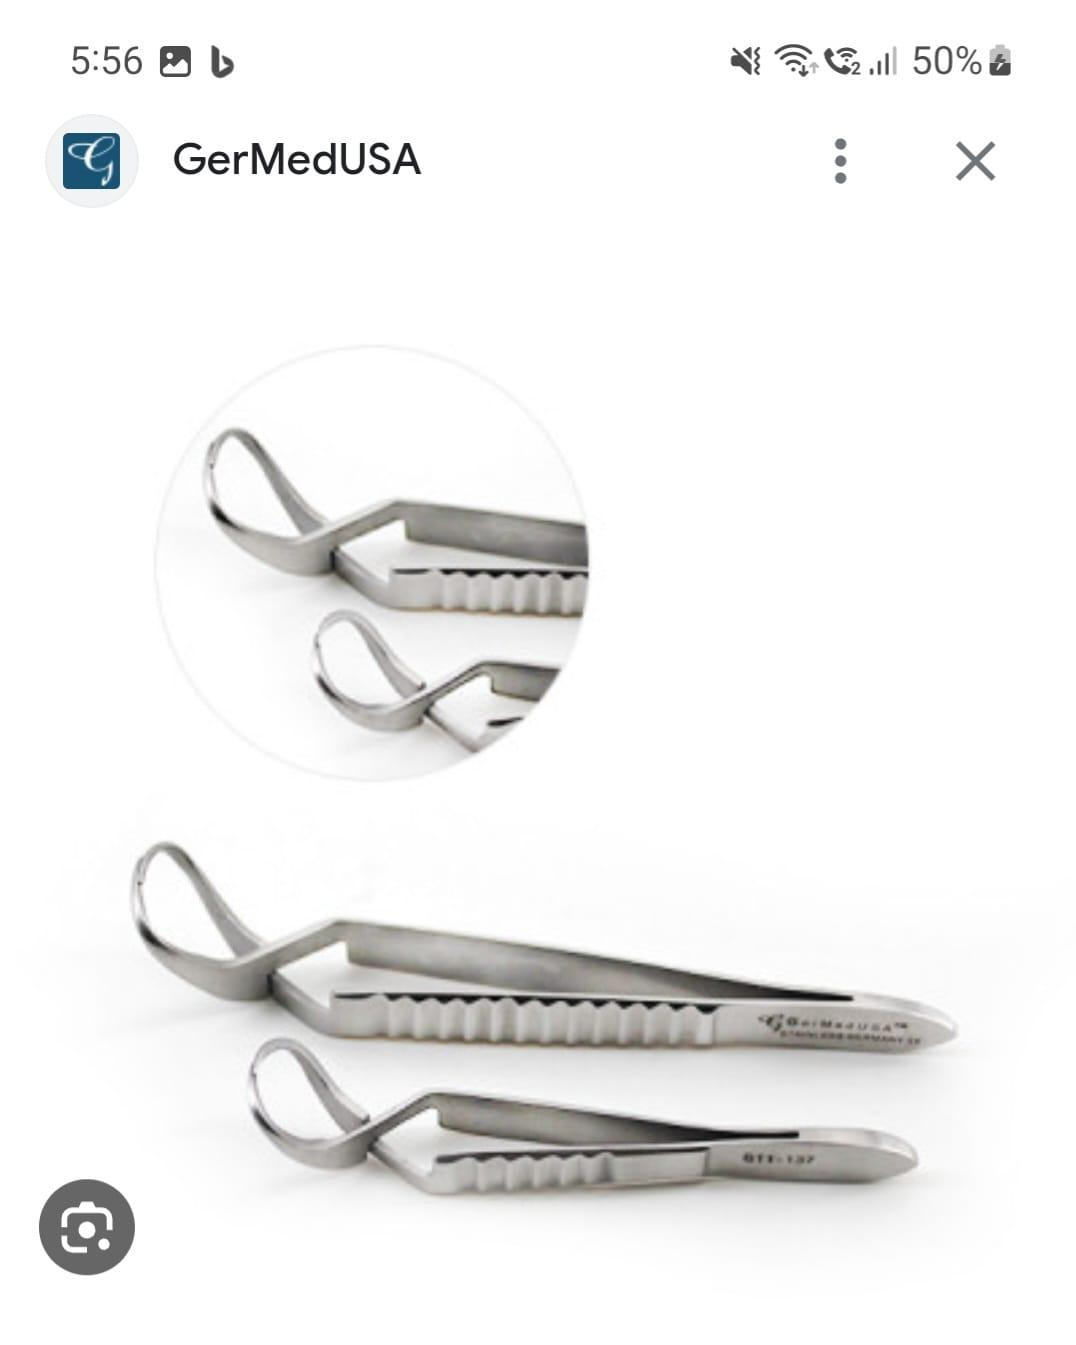Jones Towel Clamp: (112, 824, 974, 1068), (224, 1016, 942, 1198)
